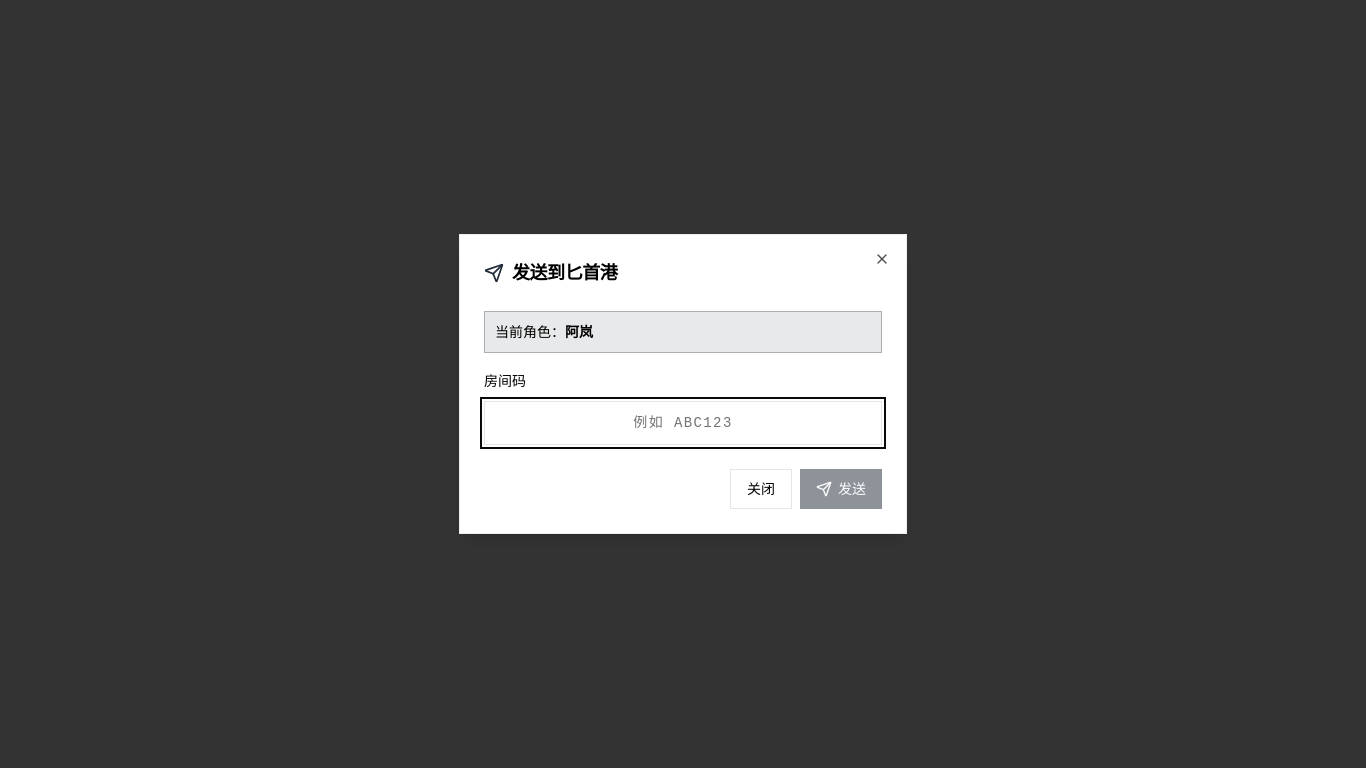
Test: DholExportModal › disables duplicate clicks during an in-flight send
In the field labelled "房间码": (683,423) x1=484 y1=401 x2=882 y2=445, type "ABC123"
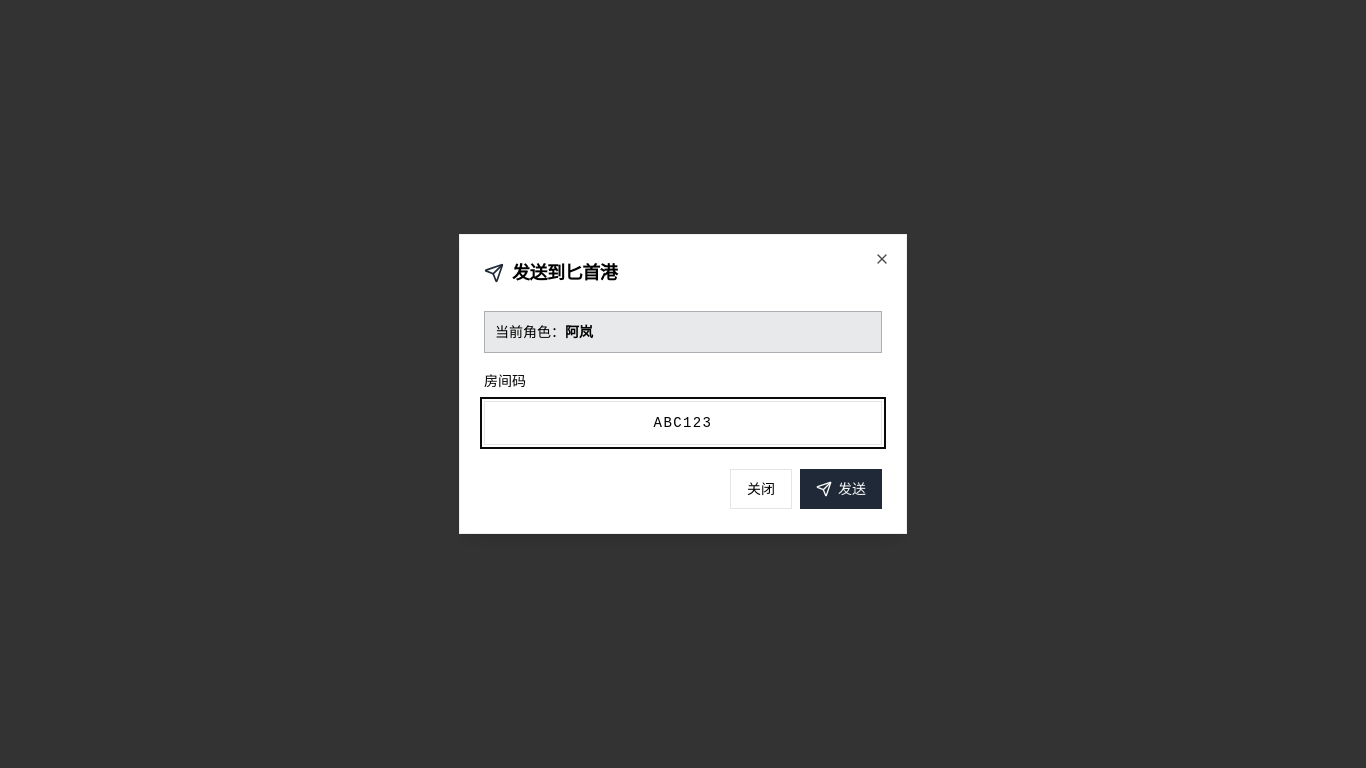
Click the button "发送": (841,489) x1=800 y1=469 x2=882 y2=509
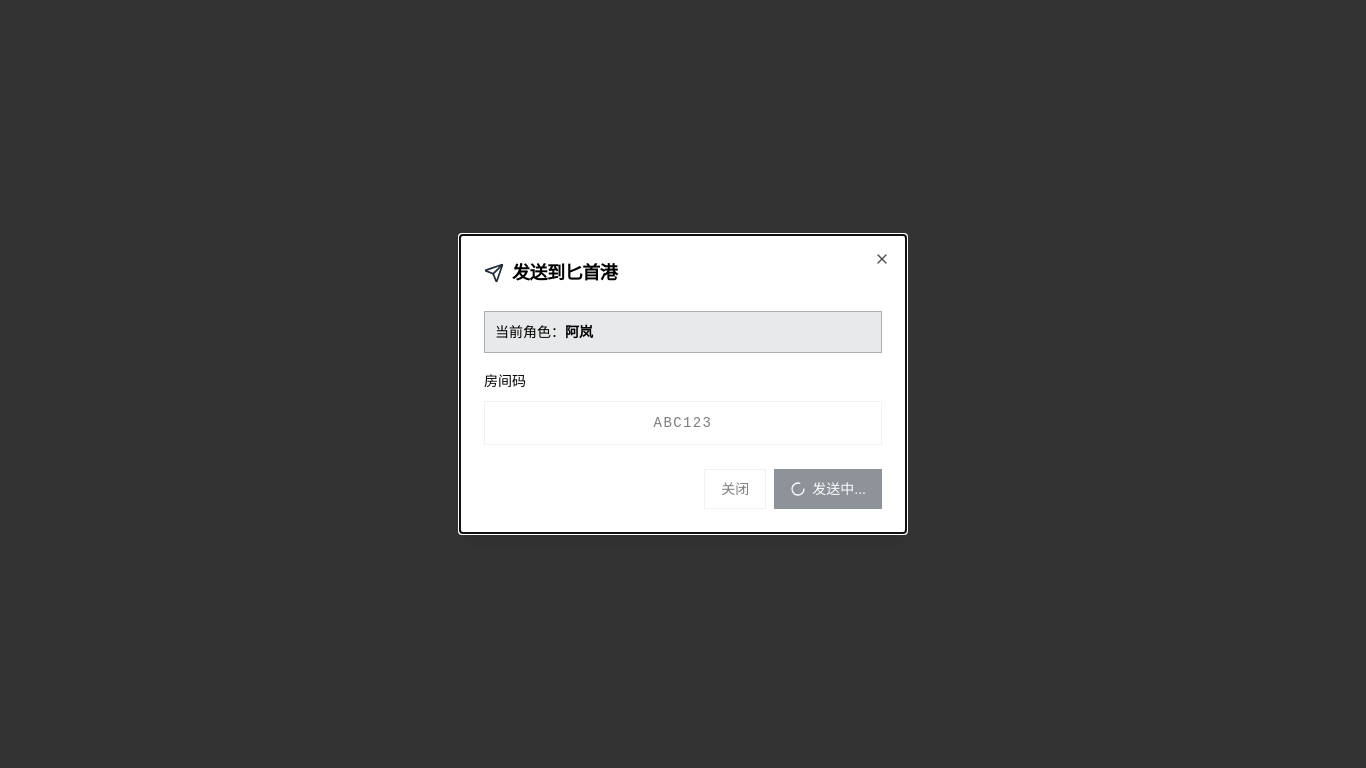
Expected: the button "发送中..." is disabled
Click the button "发送中...": (828,489) x1=774 y1=469 x2=882 y2=509
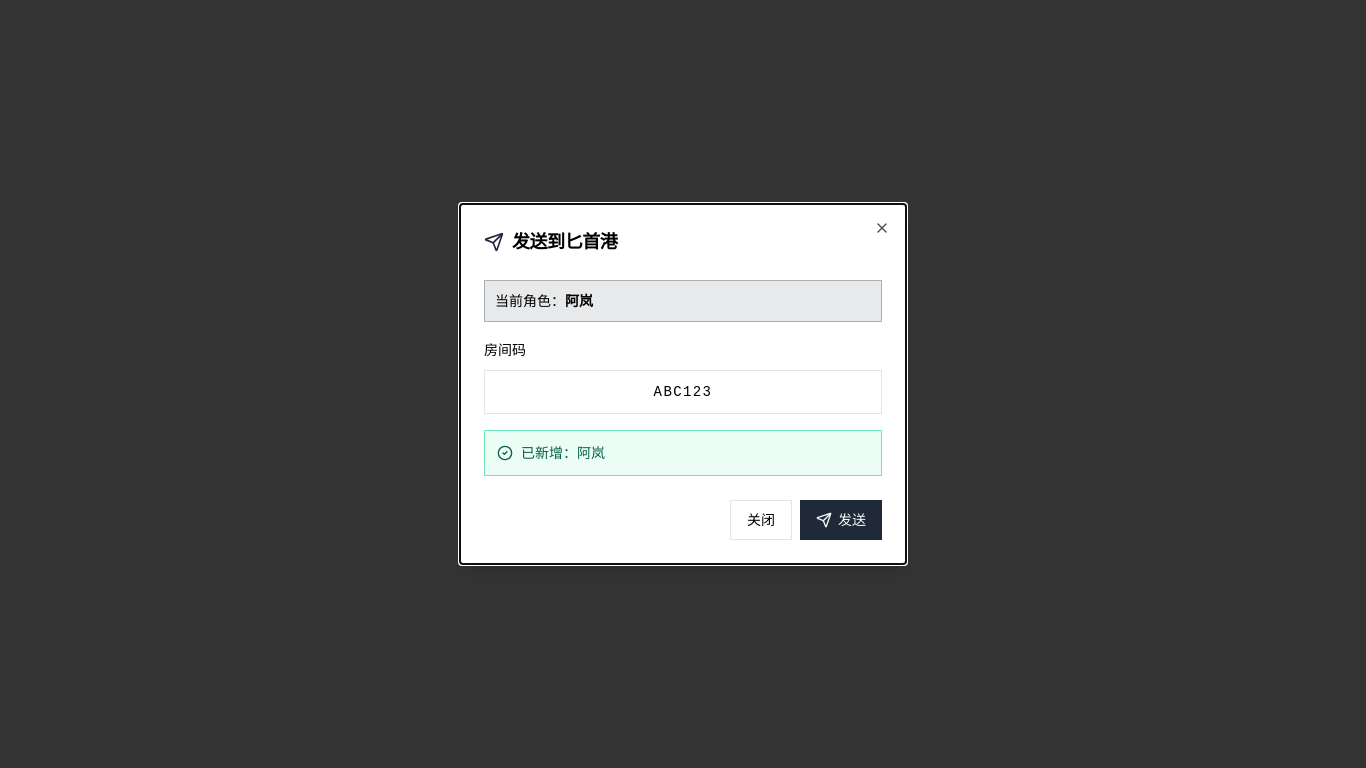
Expected: the text "已新增：阿岚" is shown, x1=521 y1=443 x2=605 y2=463
